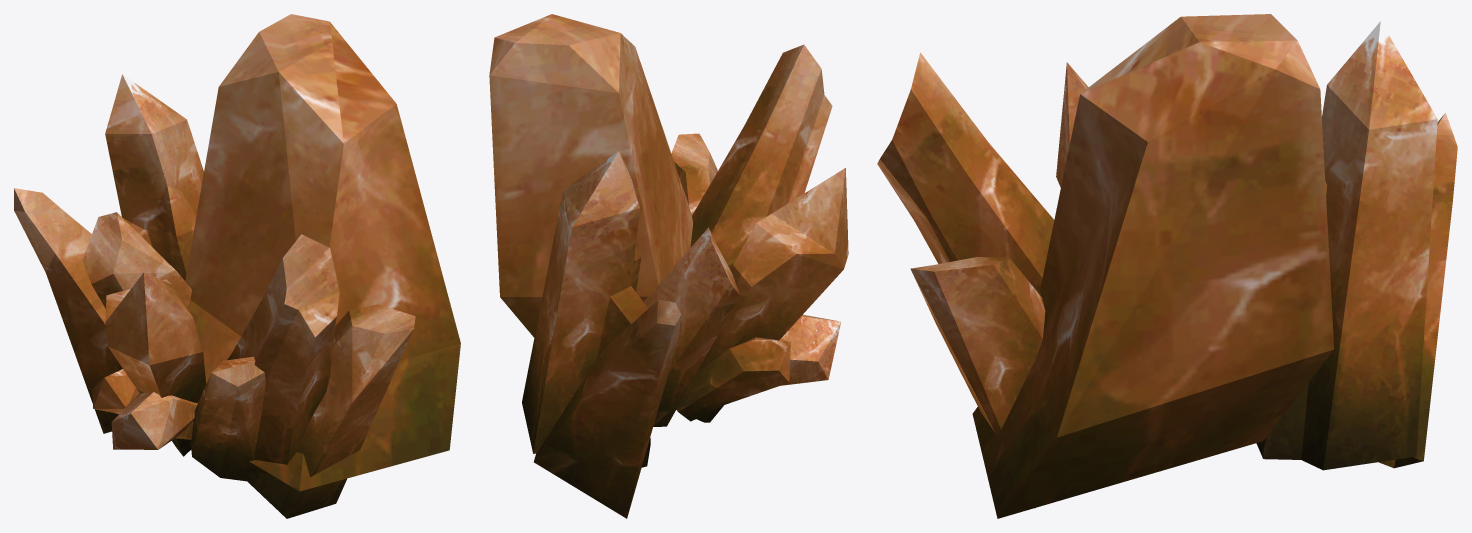
Rendered from environment_stone_shuijing_001_d.FBX.
3 renders of one model, left to right at view 1: azimuth 30°, elevation 25°; view 2: azimuth 150°, elevation 25°; view 3: azimuth 270°, elevation 25°, orthographic. The views are drawn at different scales.
Parts seen in each view (by area): view 1: environment_stone_shuijing_001_d; view 2: environment_stone_shuijing_001_d; view 3: environment_stone_shuijing_001_d.
Part boxes in pixels (left/top/right/bottom): environment_stone_shuijing_001_d: left=14, top=14, right=460, bottom=518; environment_stone_shuijing_001_d: left=489, top=14, right=848, bottom=518; environment_stone_shuijing_001_d: left=877, top=14, right=1457, bottom=518.
Size of the model in its own units: 164 by 195 by 197.
Materials: 1 (1 with a texture image).
